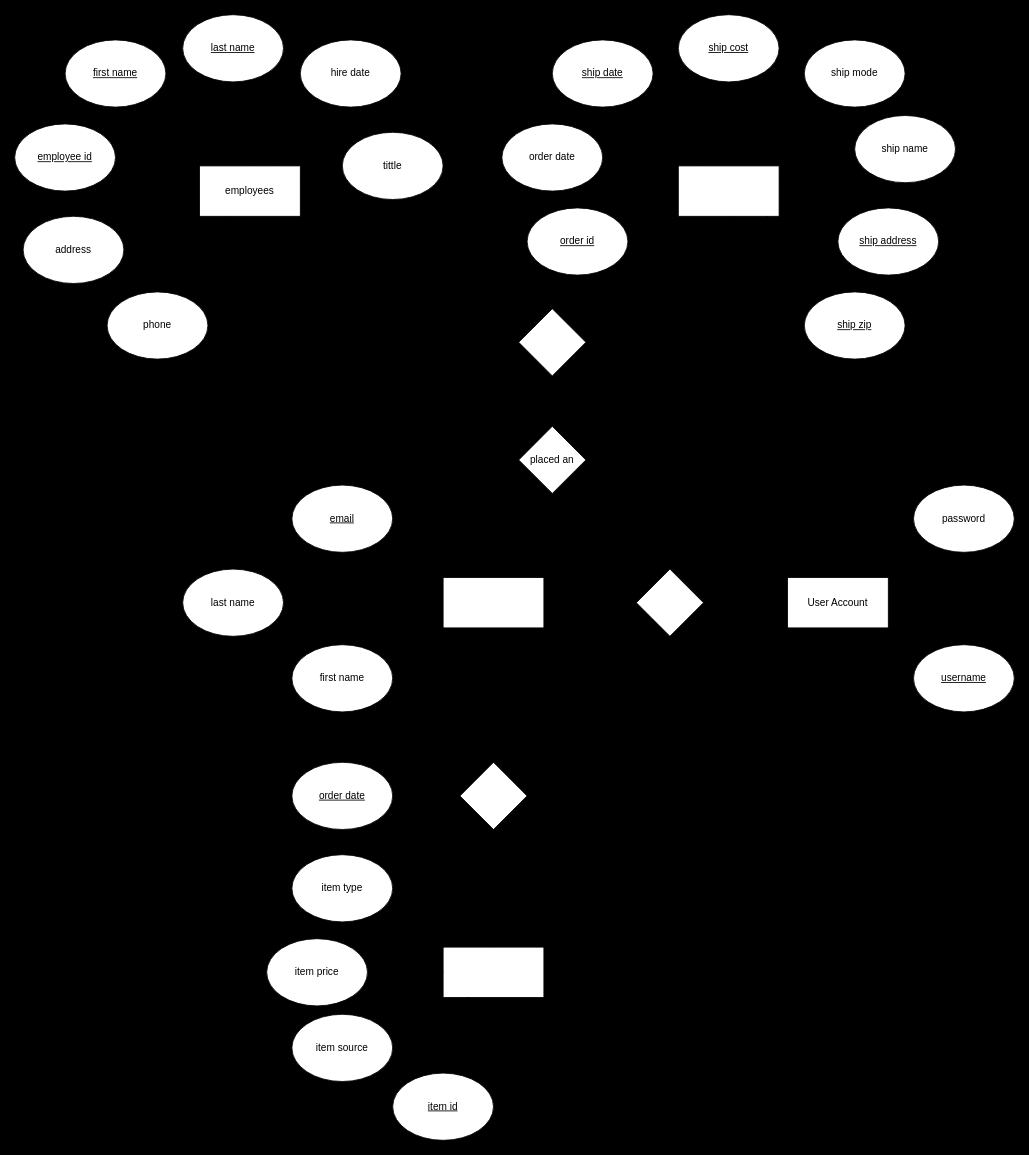
Image size: 1029x1155. Some labels were removed from this diagram. The shapes that lost their labels are listed below. From the top down, each one's centre as x and y in pixels, then its label:
point (728, 190): orders
point (552, 342): make
point (493, 602): Shopper
point (669, 602): Has
point (493, 795): buys
point (493, 972): item
